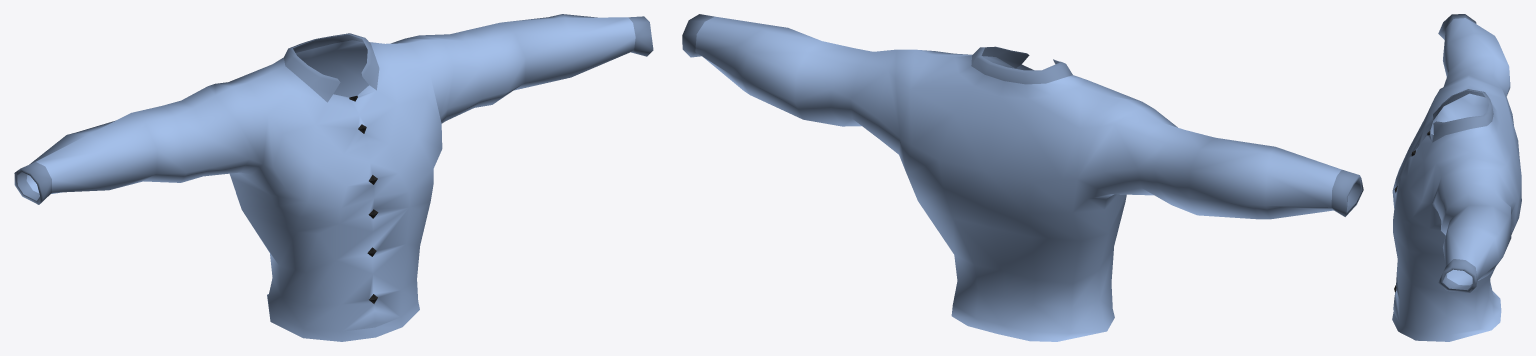
The model's file is NM_Shirt_1.fbx.
3 views of the same model, side by side, from view 1: azimuth 30°, elevation 25°; view 2: azimuth 150°, elevation 25°; view 3: azimuth 270°, elevation 25° (orthographic). The views are drawn at different scales.
Parts seen in each view (by area): view 1: Shirt_1; view 2: Shirt_1; view 3: Shirt_1.
Boxes of the visible parts, x1,y1,x2,y2 form: Shirt_1: (14,14,653,341); Shirt_1: (682,14,1363,341); Shirt_1: (1392,14,1521,341).
Size of the model in its own units: 140 by 55.31 by 30.21.
